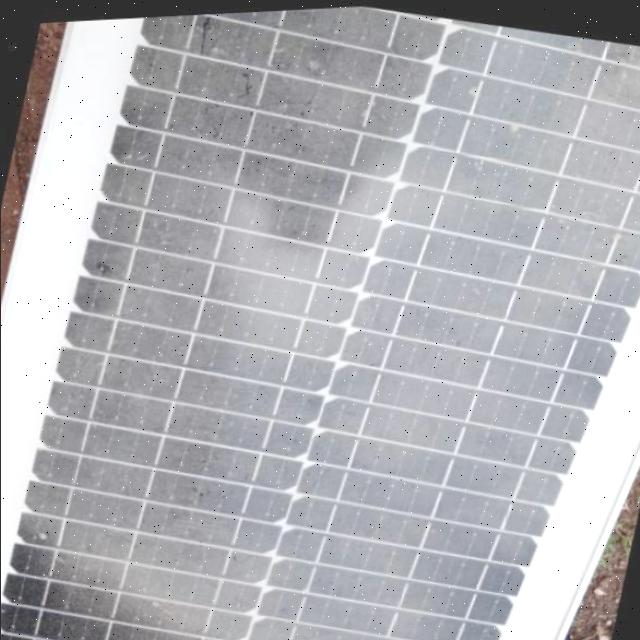Surface Contaminant: (0, 3, 634, 640)
